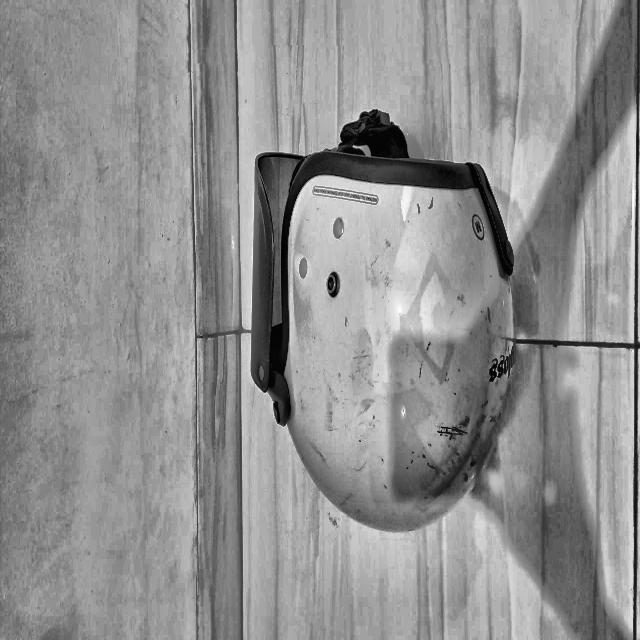Helmet: (51, 410, 321, 640)
